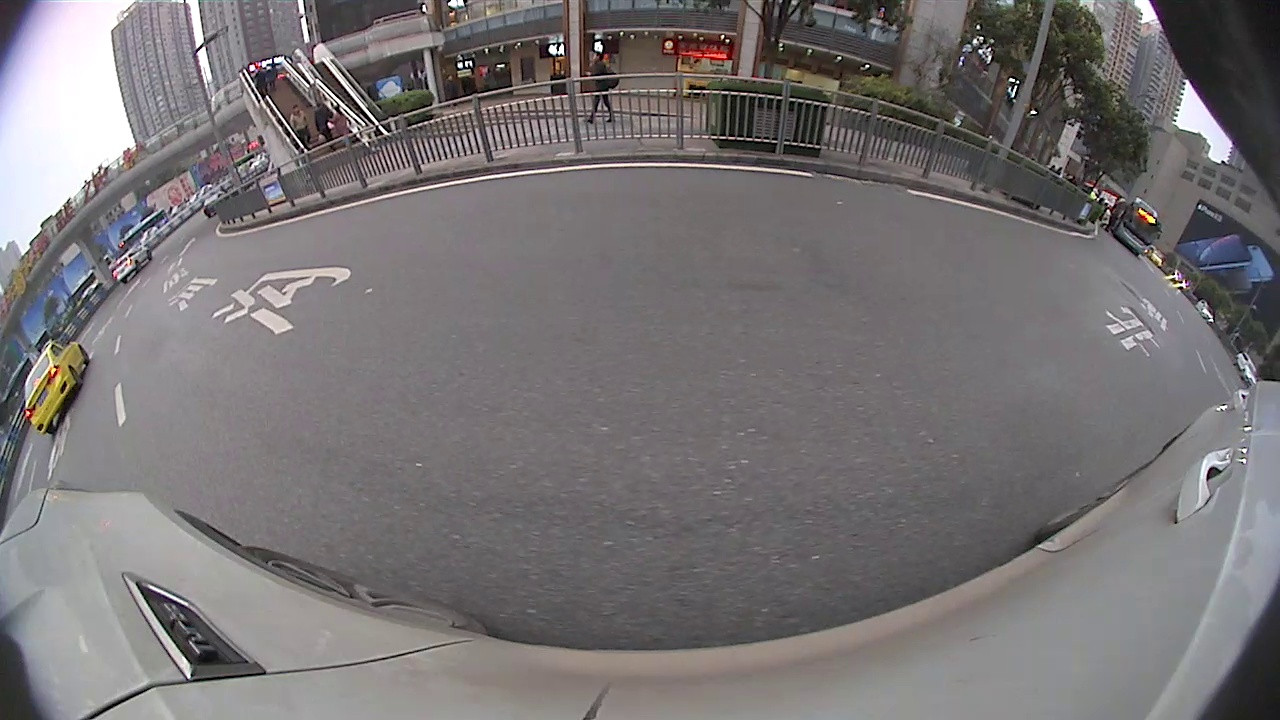bus: (1113, 199, 1160, 256)
car: (24, 339, 92, 438), (111, 245, 153, 285), (201, 194, 221, 221)
